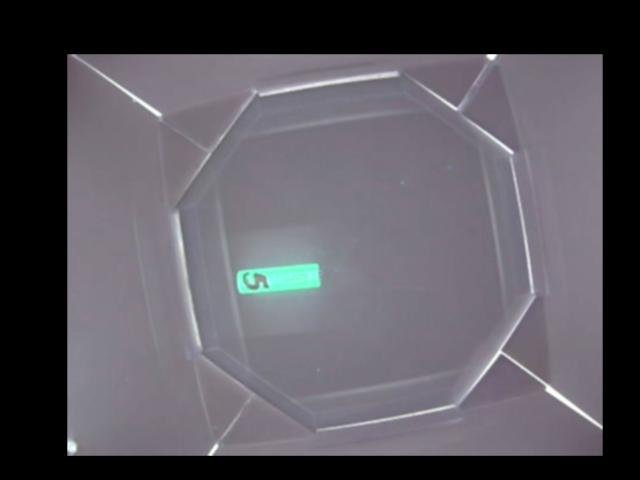Battery: (234, 265, 322, 292)
